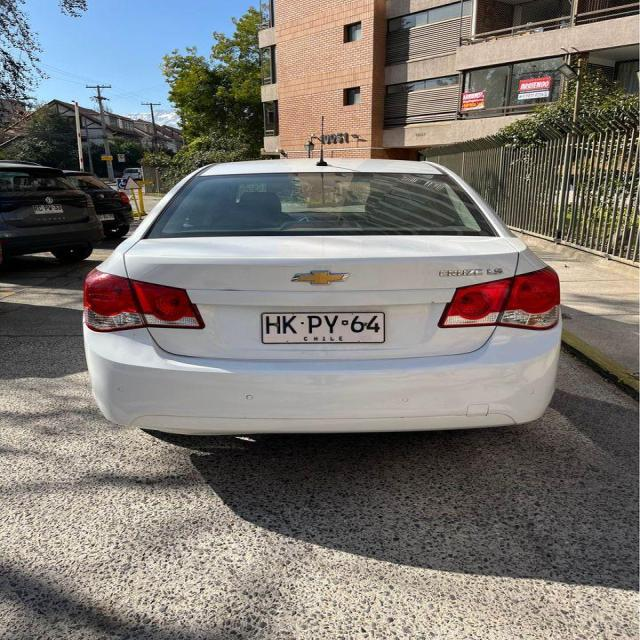patente: (260, 311, 386, 344)
